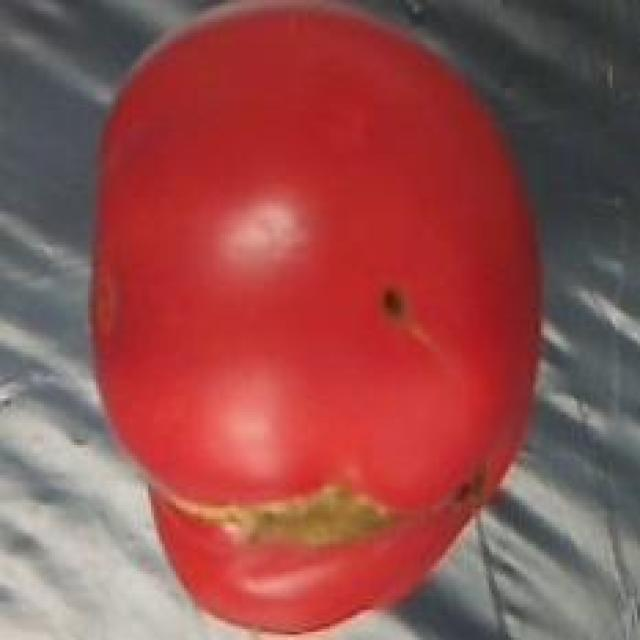overripe tomato: (77, 0, 560, 640)
